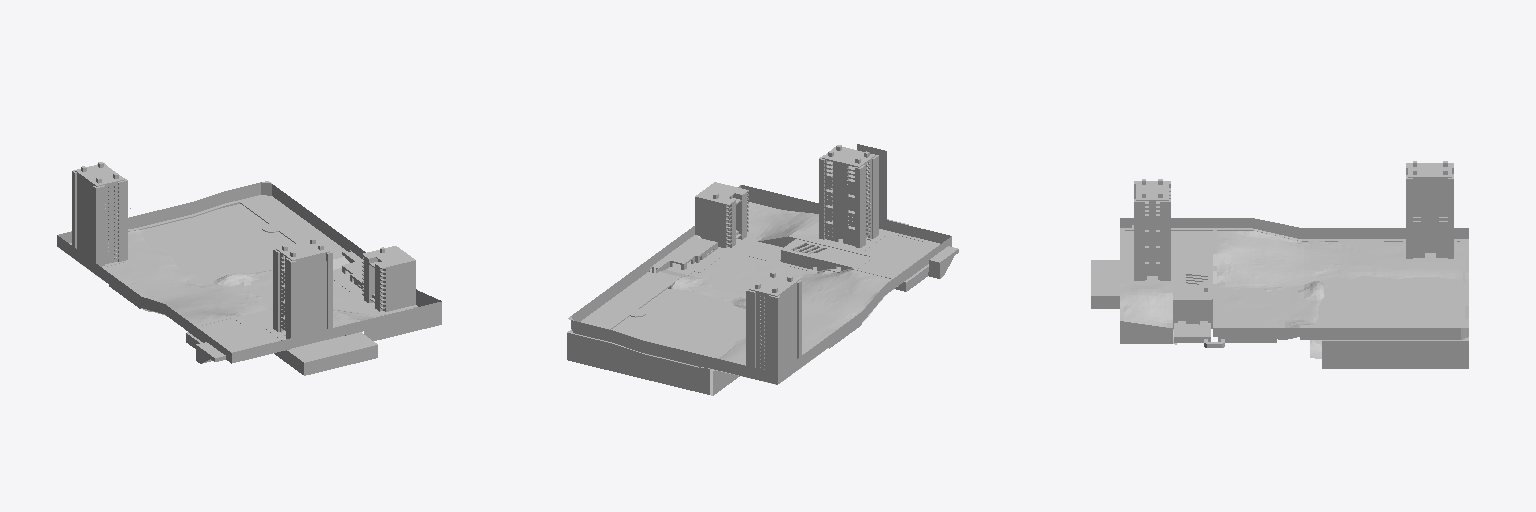
The model's file is gmstruc.obj.
The picture shows the model from 3 angles: view 1: azimuth 30°, elevation 25°; view 2: azimuth 150°, elevation 25°; view 3: azimuth 270°, elevation 25°; orthographic projection.
Parts seen in each view (by area): view 1: baked_world_geometry_MESH.001; view 2: baked_world_geometry_MESH.001; view 3: baked_world_geometry_MESH.001.
Boxes of the visible parts, x1,y1,x2,y2 form: baked_world_geometry_MESH.001: [57, 162, 441, 375]; baked_world_geometry_MESH.001: [567, 144, 958, 395]; baked_world_geometry_MESH.001: [1091, 161, 1468, 368].
Bounding box in the file's own units: 149 × 74.98 × 210.